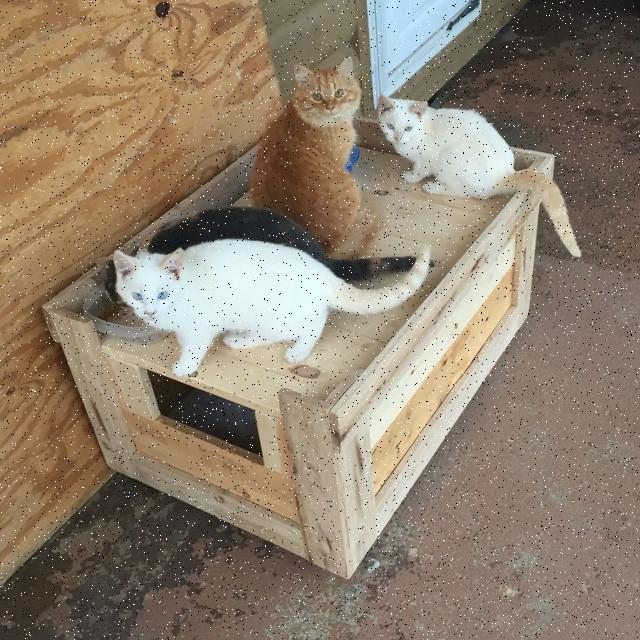cat: (113, 240, 430, 376), (379, 96, 581, 257), (251, 58, 379, 256), (148, 206, 416, 282)
